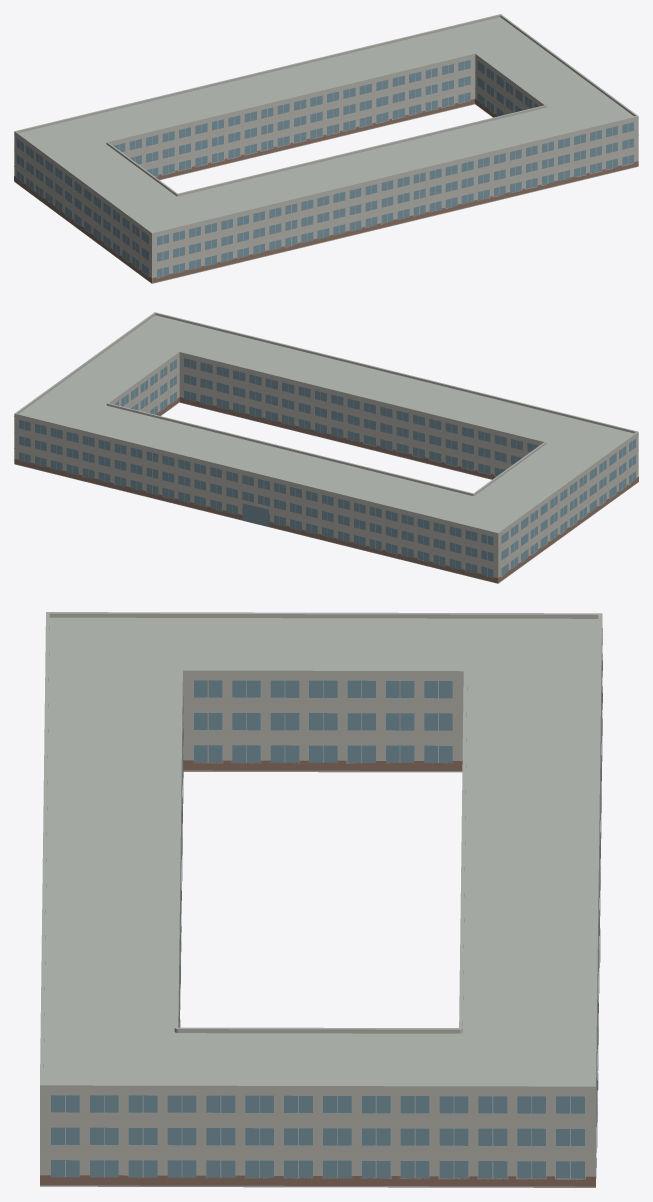
File: public-9275aaaa-0f96-44b5-83a2-95a79b63d990.glb
The picture shows the model from 3 angles, top to bottom: view 1: azimuth 30°, elevation 25°; view 2: azimuth 150°, elevation 25°; view 3: azimuth 270°, elevation 25°; orthographic projection. The views are drawn at different scales.
Visible parts, largest first — view 1: public-9275aaaa-0f96-44b5-83a2-95a79b63d990; view 2: public-9275aaaa-0f96-44b5-83a2-95a79b63d990; view 3: public-9275aaaa-0f96-44b5-83a2-95a79b63d990.
Part boxes in pixels (left/top/right/bottom): public-9275aaaa-0f96-44b5-83a2-95a79b63d990: left=14, top=14, right=638, bottom=283; public-9275aaaa-0f96-44b5-83a2-95a79b63d990: left=14, top=312, right=638, bottom=583; public-9275aaaa-0f96-44b5-83a2-95a79b63d990: left=40, top=612, right=602, bottom=1187.
Size of the model in its own units: 92.06 by 9.15 by 47.05.
